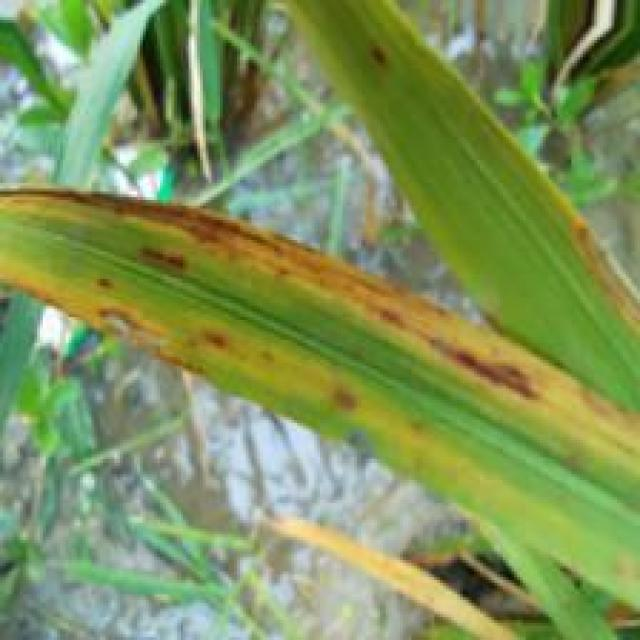Narrow_Brown_Leaf_Spot: (1, 188, 640, 475), (0, 252, 510, 485), (562, 208, 640, 337), (133, 248, 198, 279), (360, 44, 392, 78)
